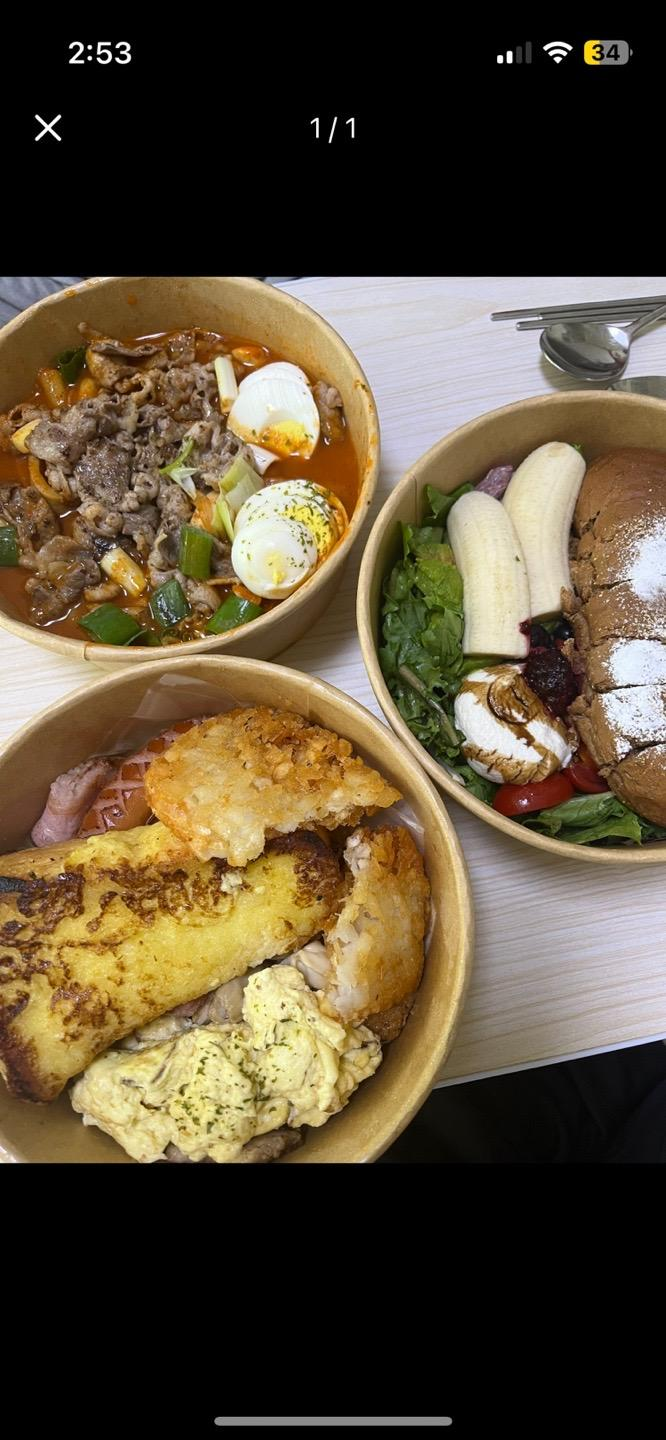Lunch Box: (0, 657, 473, 1162), (0, 277, 379, 666), (357, 392, 665, 864)
